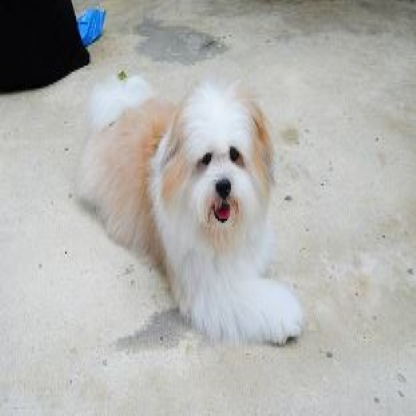maltese: (77, 73, 309, 347)
